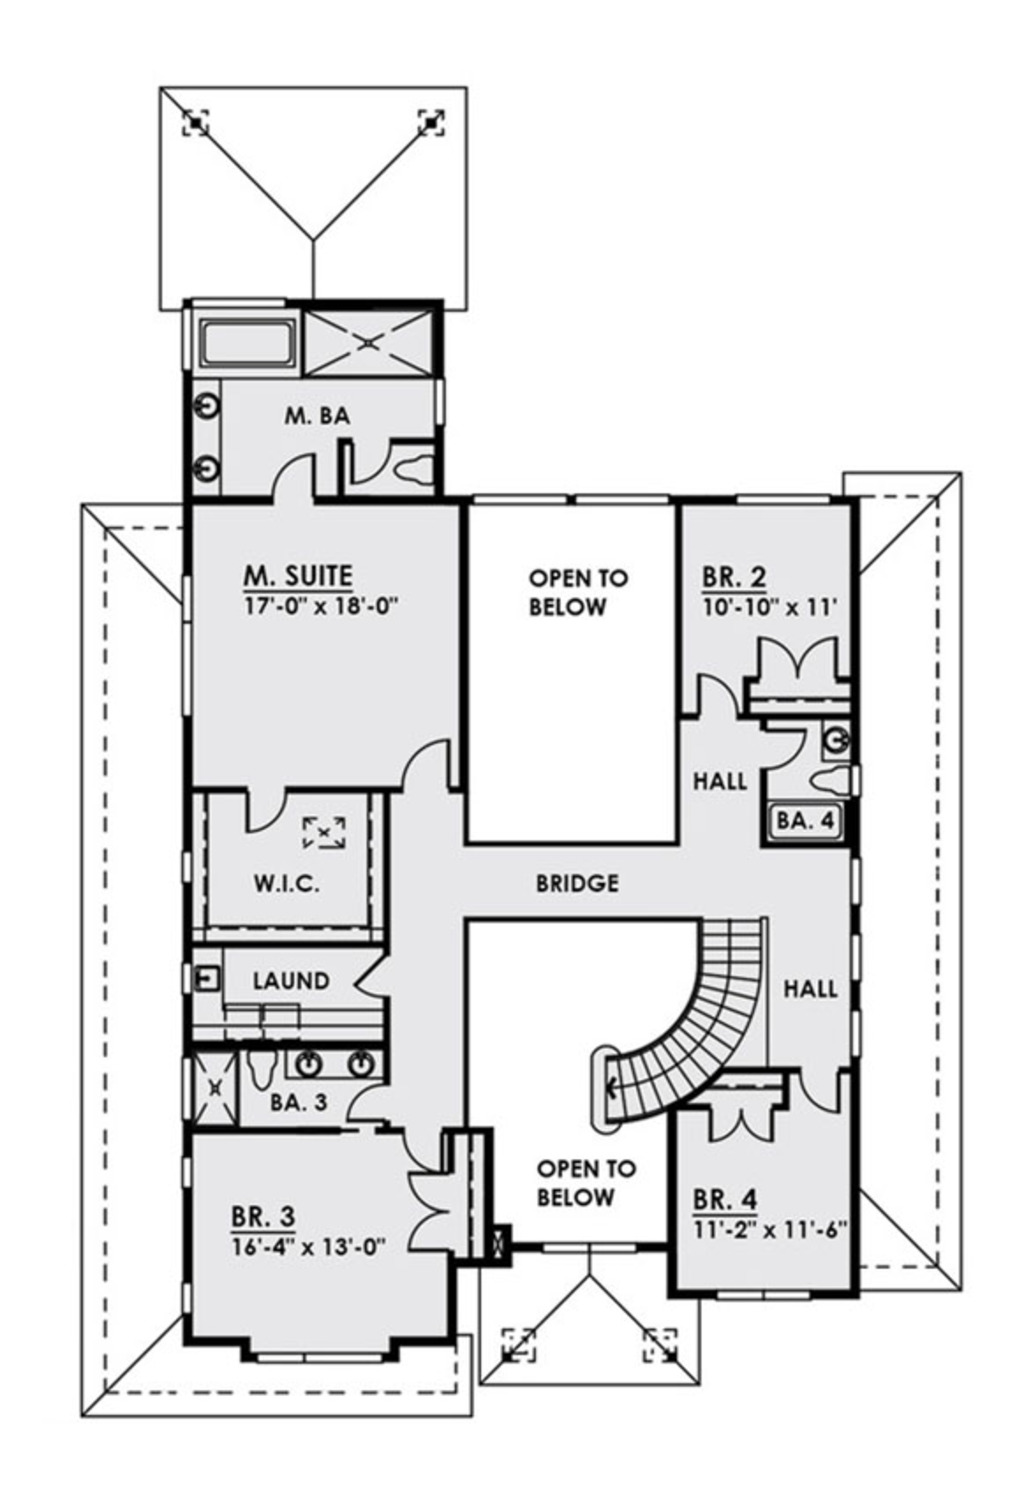door: (403, 1166, 458, 1257), (749, 634, 842, 683), (679, 669, 742, 720), (396, 740, 448, 799), (761, 724, 819, 770), (346, 1077, 390, 1134), (274, 450, 317, 504), (236, 788, 287, 834), (801, 1066, 844, 1116), (344, 434, 390, 479)
large_sink: (239, 1048, 284, 1094), (387, 448, 433, 489), (803, 761, 850, 796)
stairs: (582, 921, 757, 1118)
tub: (190, 310, 303, 383)
windows: (469, 487, 672, 511), (172, 570, 201, 721), (247, 1347, 382, 1371), (699, 1285, 814, 1309), (534, 1236, 636, 1262)
